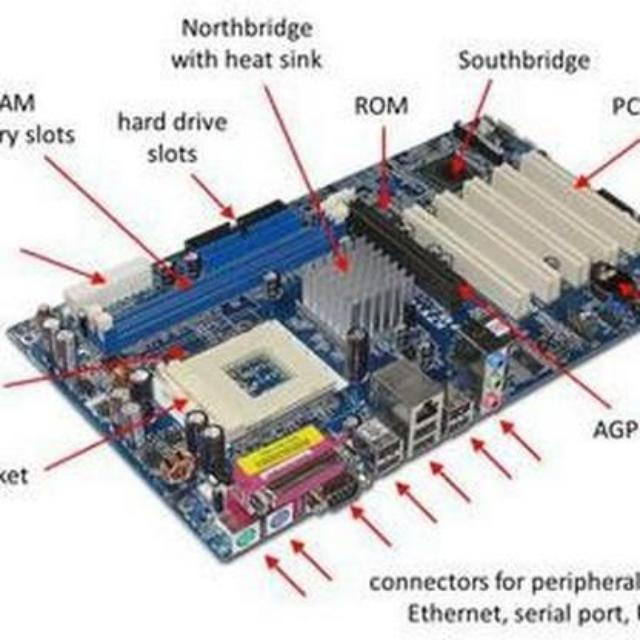Mainboard: (11, 111, 640, 564)
